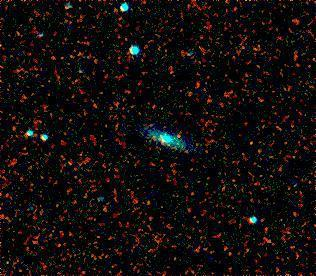star: (164, 120, 194, 150)
